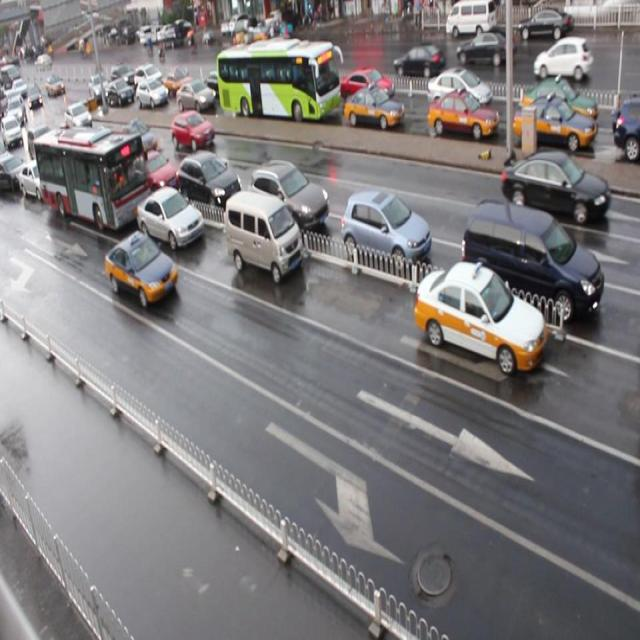car: (413, 257, 546, 376), (500, 148, 610, 224), (341, 189, 431, 273), (248, 160, 329, 233), (105, 230, 178, 309), (136, 183, 205, 252), (512, 97, 592, 152), (177, 150, 243, 210), (525, 79, 601, 130), (427, 92, 496, 140), (425, 66, 492, 111), (344, 88, 404, 132), (134, 146, 180, 194), (342, 65, 390, 108), (171, 112, 214, 153), (20, 157, 57, 201), (85, 134, 124, 173), (121, 120, 159, 160), (613, 102, 640, 155), (176, 82, 215, 115), (35, 130, 65, 169), (1, 152, 28, 194), (137, 80, 169, 110), (28, 127, 55, 162), (164, 67, 194, 95), (105, 78, 134, 105), (205, 71, 231, 101), (134, 62, 162, 89), (66, 103, 92, 132)
truck: (462, 196, 604, 327), (224, 189, 304, 283)
van: (34, 125, 154, 234), (217, 41, 340, 120)
